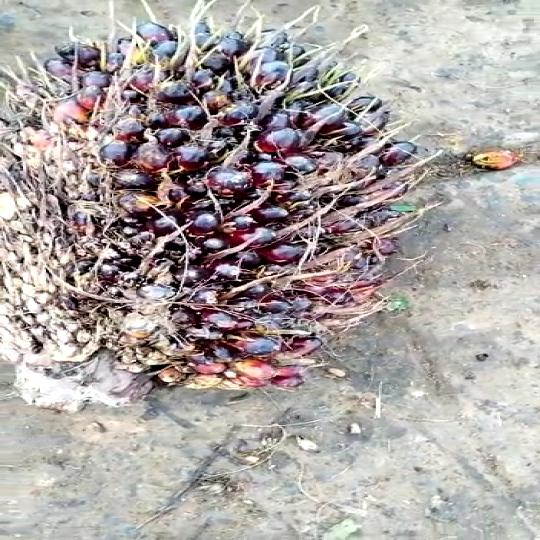mentah: (0, 1, 414, 402)
